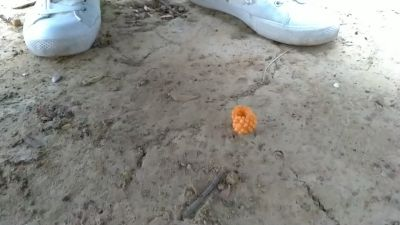eggs: (232, 103, 256, 133)
